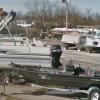Boat: (8, 54, 100, 94)
